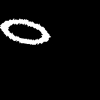chain: (0, 19, 49, 43)
